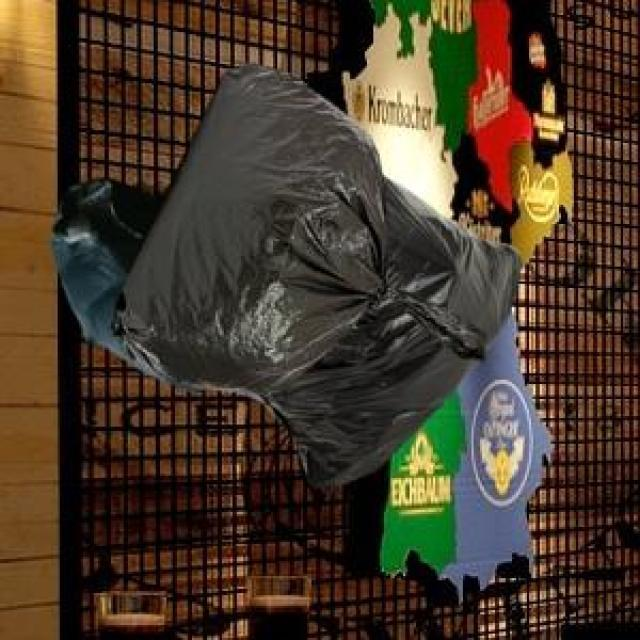waste: (56, 66, 519, 483)
